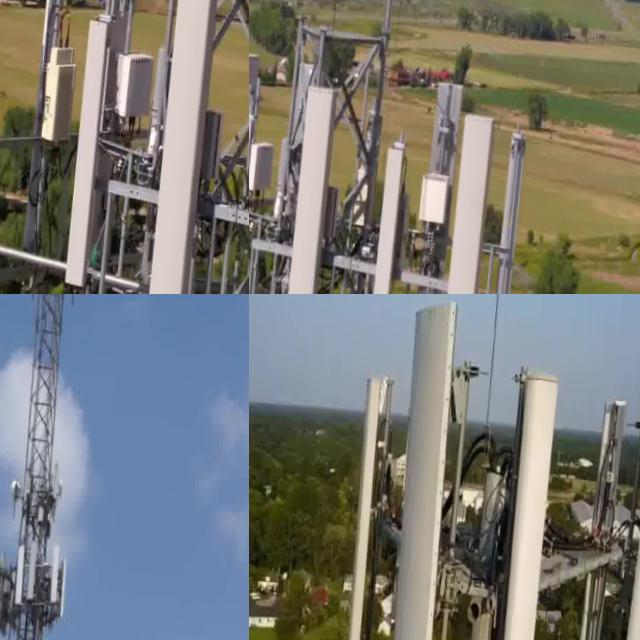GSM Antenna: (351, 294, 483, 640), (454, 364, 573, 640), (124, 0, 234, 294), (50, 2, 124, 294), (264, 71, 349, 294), (330, 379, 395, 640), (417, 110, 507, 294), (483, 98, 544, 294), (79, 0, 147, 156), (605, 360, 640, 640), (416, 79, 471, 251), (353, 141, 412, 294), (249, 44, 268, 294), (47, 551, 71, 630), (38, 540, 62, 616), (4, 538, 28, 611), (17, 535, 39, 605)
Microwave Antenna: (555, 389, 636, 640), (4, 478, 22, 507), (50, 481, 62, 500)
